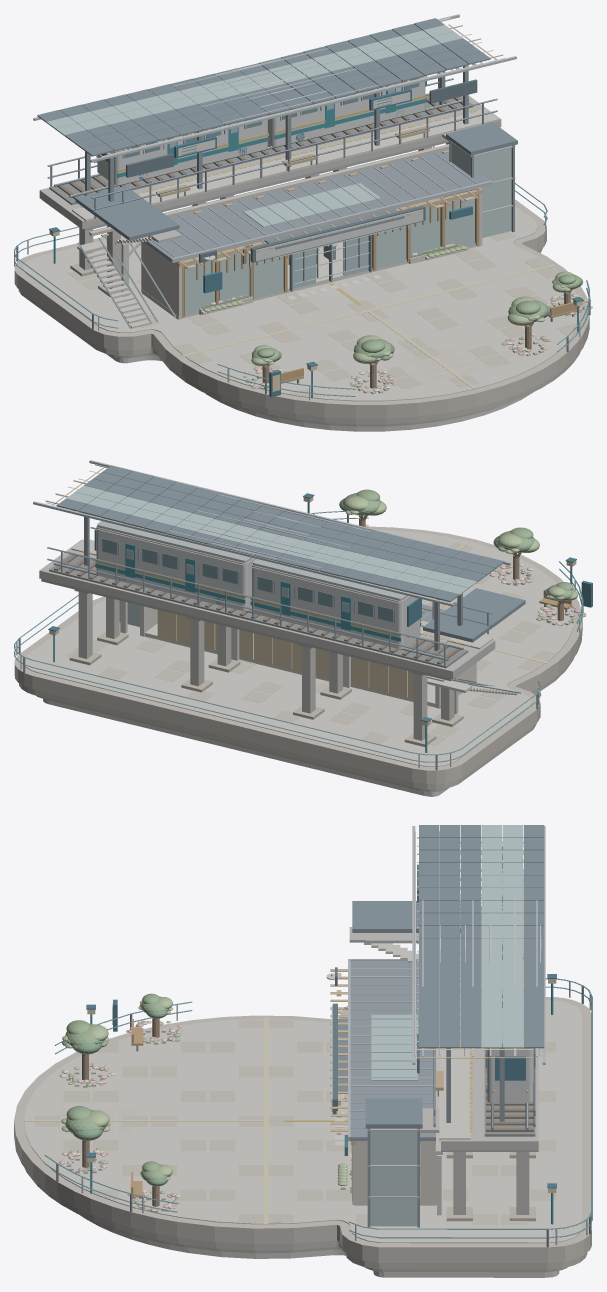
File: F_elevated_station_v9_design.glb
3 views of the same model, one above another, from view 1: azimuth 30°, elevation 25°; view 2: azimuth 150°, elevation 25°; view 3: azimuth 270°, elevation 25° (orthographic). The views are drawn at different scales.
Parts seen in each view (by area): view 1: 01 Island::paving, 07 Platform canopy::roofDark, 01 Island::sandstone, 12 Hall roof::roof, 02 Paving::pavingAccent, 07 Platform canopy::glassClear, 11 Hall::glassClear, 08 Train::trainBase, 06 Platform::plinth, 03 Viaduct::viaduct, 16 Vertical circulation::roofDark, 11 Hall::plinth (+41 smaller); view 2: 01 Island::paving, 07 Platform canopy::roofDark, 01 Island::sandstone, 08 Train::trainBase, 07 Platform canopy::glassClear, 04 Elevated piers::viaduct, 11 Hall::glassAmber, 03 Viaduct::viaduct, 02 Paving::pavingAccent, 01 Island::strata, 05 Track::railGround, 09 Platform guard::metal (+23 smaller); view 3: 01 Island::paving, 07 Platform canopy::roofDark, 01 Island::sandstone, 02 Paving::pavingAccent, 07 Platform canopy::glassClear, 12 Hall roof::roof, 16 Vertical circulation::glassClear, 16 Vertical circulation::roofDark, 01 Island::strata, 03 Viaduct::viaduct, 12 Hall roof::glassClear, 01 Island::islandStone (+26 smaller).
Part boxes in pixels (<box>): 01 Island::paving: <box>23,198,580,401</box>; 07 Platform canopy::roofDark: <box>37,18,490,156</box>; 01 Island::sandstone: <box>14,199,589,418</box>; 12 Hall roof::roof: <box>144,149,490,262</box>; 02 Paving::pavingAccent: <box>67,198,576,397</box>; 07 Platform canopy::glassClear: <box>46,25,462,136</box>; 11 Hall::glassClear: <box>184,196,474,315</box>; 08 Train::trainBase: <box>97,77,425,185</box>; 06 Platform::plinth: <box>72,109,499,221</box>; 03 Viaduct::viaduct: <box>39,96,501,229</box>; 16 Vertical circulation::roofDark: <box>75,122,517,240</box>; 11 Hall::plinth: <box>141,188,482,319</box>; 01 Island::paving: <box>25,530,573,766</box>; 07 Platform canopy::roofDark: <box>56,465,504,602</box>; 01 Island::sandstone: <box>14,526,582,783</box>; 08 Train::trainBase: <box>96,525,420,648</box>; 07 Platform canopy::glassClear: <box>66,485,477,595</box>; 04 Elevated piers::viaduct: <box>78,592,454,740</box>; 11 Hall::glassAmber: <box>157,610,413,699</box>; 03 Viaduct::viaduct: <box>39,539,495,679</box>; 02 Paving::pavingAccent: <box>66,542,554,745</box>; 01 Island::strata: <box>19,658,573,789</box>; 05 Track::railGround: <box>49,554,468,668</box>; 09 Platform guard::metal: <box>47,527,491,665</box>; 01 Island::paving: <box>24,1000,582,1243</box>; 07 Platform canopy::roofDark: <box>419,825,544,1048</box>; 01 Island::sandstone: <box>14,997,591,1262</box>; 02 Paving::pavingAccent: <box>34,1019,556,1225</box>; 07 Platform canopy::glassClear: <box>482,825,523,1048</box>; 12 Hall roof::roof: <box>349,959,435,1140</box>; 16 Vertical circulation::glassClear: <box>370,1131,417,1226</box>; 16 Vertical circulation::roofDark: <box>352,901,460,1128</box>; 01 Island::strata: <box>24,1167,587,1269</box>; 03 Viaduct::viaduct: <box>441,908,538,1150</box>; 12 Hall roof::glassClear: <box>371,1014,417,1080</box>; 01 Island::islandStone: <box>80,1215,559,1277</box>.
Bounding box in the file's own units: 20.4 × 8.5 × 19.85.
